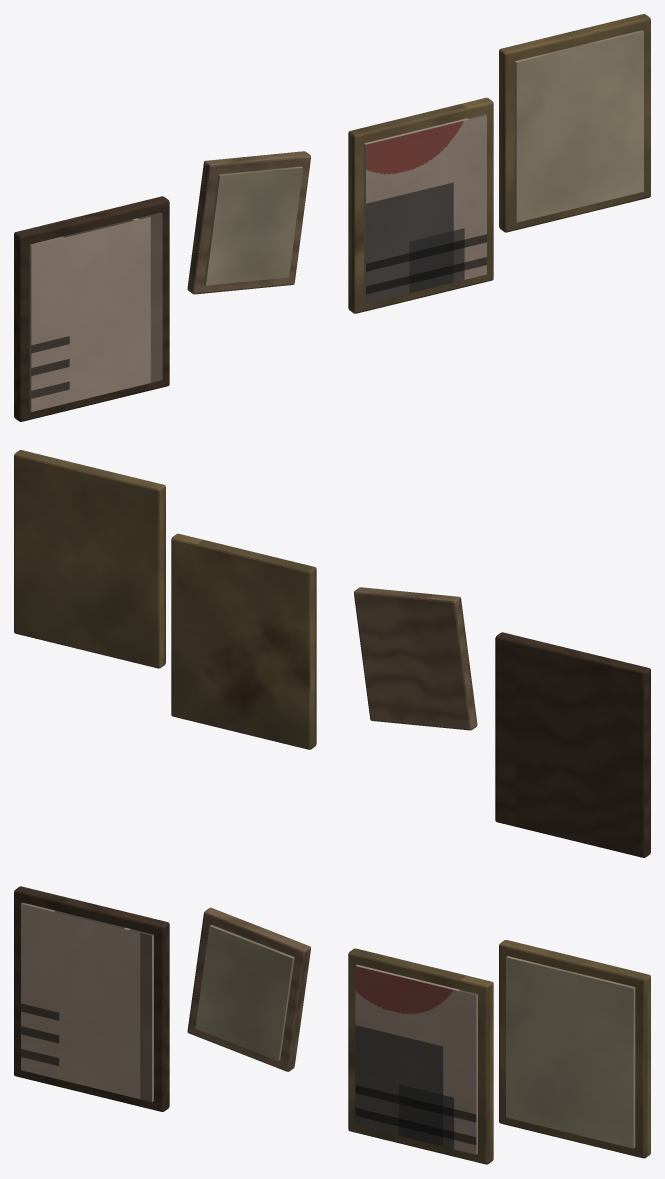
The model's file is L09_wall_photo_frames_v2.glb.
3 views of the same model, one above another, from view 1: azimuth 30°, elevation 25°; view 2: azimuth 150°, elevation 25°; view 3: azimuth 330°, elevation 25° (orthographic).
Visible parts, largest first — view 1: L09_wall_photo_frames_v2; view 2: L09_wall_photo_frames_v2; view 3: L09_wall_photo_frames_v2.
Boxes of the visible parts, x1,y1,x2,y2 form: L09_wall_photo_frames_v2: (14,14,650,421); L09_wall_photo_frames_v2: (14,450,650,857); L09_wall_photo_frames_v2: (14,886,650,1164).
Size of the model in its own units: 0.8 by 0.304 by 0.0191.
Materials: 5 (5 with a texture image).
